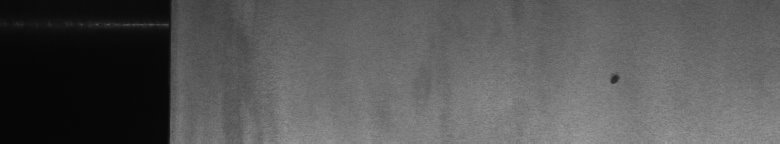fi: (603, 68, 624, 92)
